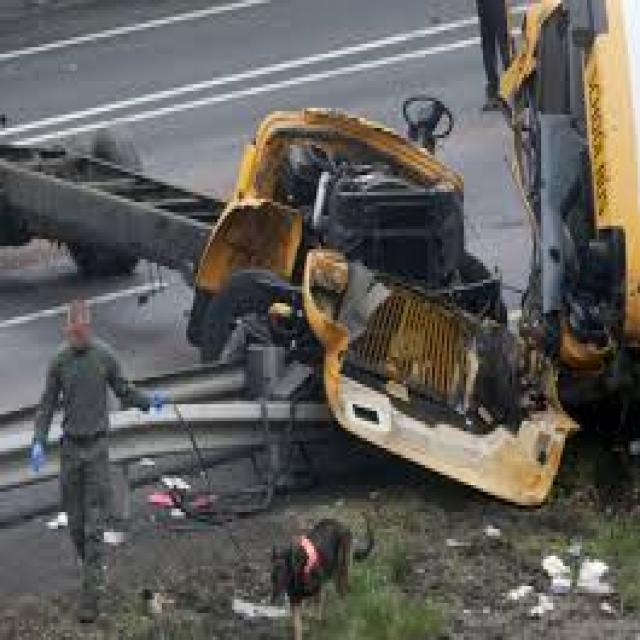accident: (0, 0, 640, 519)
